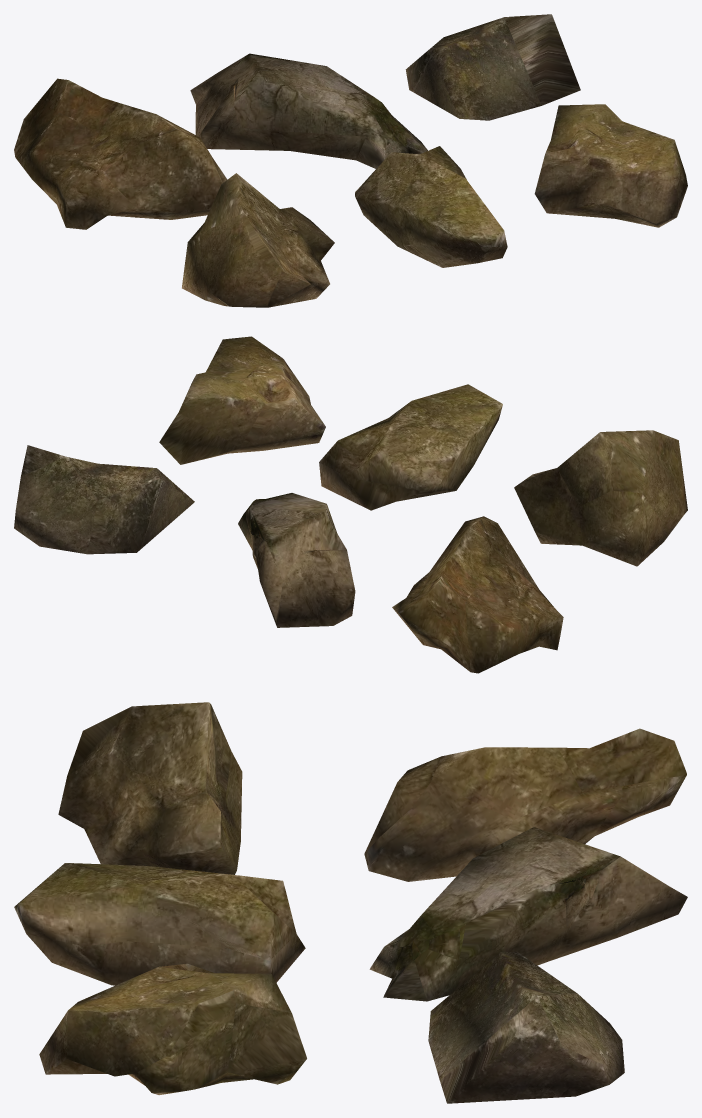
Rendered from rock_moss_set_01.glb.
The picture shows the model from 3 angles, top to bottom: view 1: azimuth 30°, elevation 25°; view 2: azimuth 150°, elevation 25°; view 3: azimuth 270°, elevation 25°; orthographic projection. The views are drawn at different scales.
Visible parts, largest first — view 1: rock_moss_set_01_rock01; view 2: rock_moss_set_01_rock01; view 3: rock_moss_set_01_rock01.
Boxes of the visible parts, x1,y1,x2,y2 form: rock_moss_set_01_rock01: (14,14,687,307); rock_moss_set_01_rock01: (14,336,687,673); rock_moss_set_01_rock01: (14,702,687,1103).
Size of the model in its own units: 7.87 by 1.75 by 6.85.
Materials: 1 (1 with a texture image).
